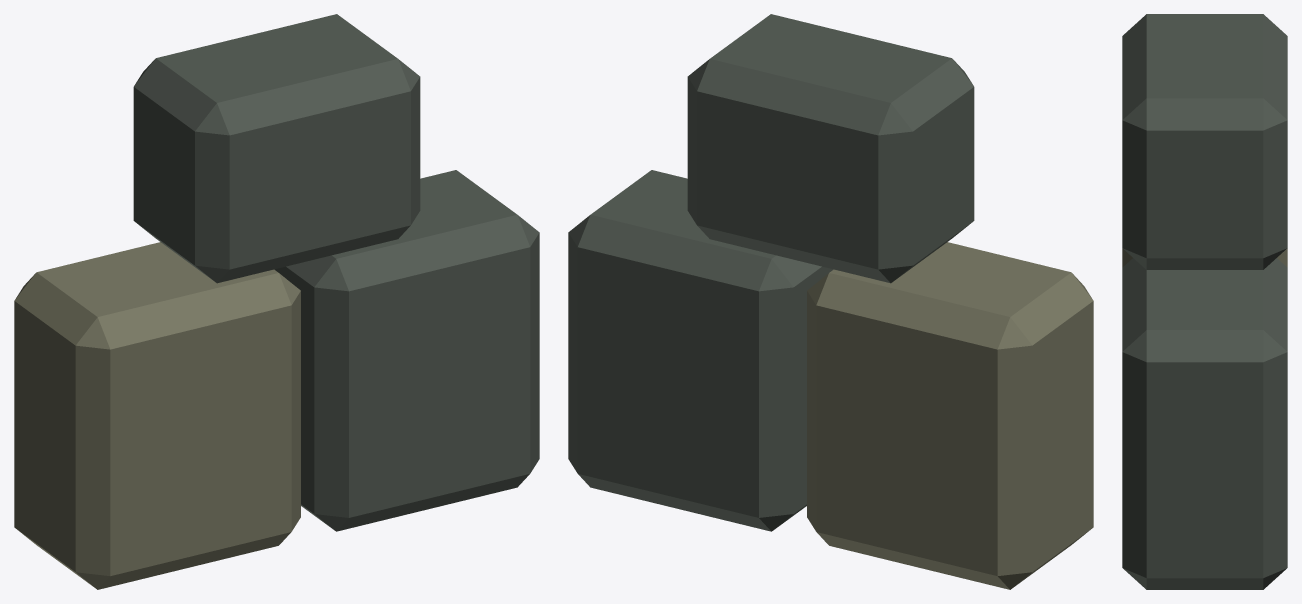
File: SM_ENV_Ruin_02_WallBroken.glb
The picture shows the model from 3 angles, left to right: view 1: azimuth 30°, elevation 25°; view 2: azimuth 150°, elevation 25°; view 3: azimuth 270°, elevation 25°; orthographic projection. The views are drawn at different scales.
Parts seen in each view (by area): view 1: SM_ENV_Ruin_02_WallBroken; view 2: SM_ENV_Ruin_02_WallBroken; view 3: SM_ENV_Ruin_02_WallBroken.
Part boxes in pixels (<box>): SM_ENV_Ruin_02_WallBroken: <box>14,14,539,589</box>; SM_ENV_Ruin_02_WallBroken: <box>568,14,1093,589</box>; SM_ENV_Ruin_02_WallBroken: <box>1122,14,1287,589</box>.
Bounding box in the file's own units: 1.05 × 0.99 × 0.34.
